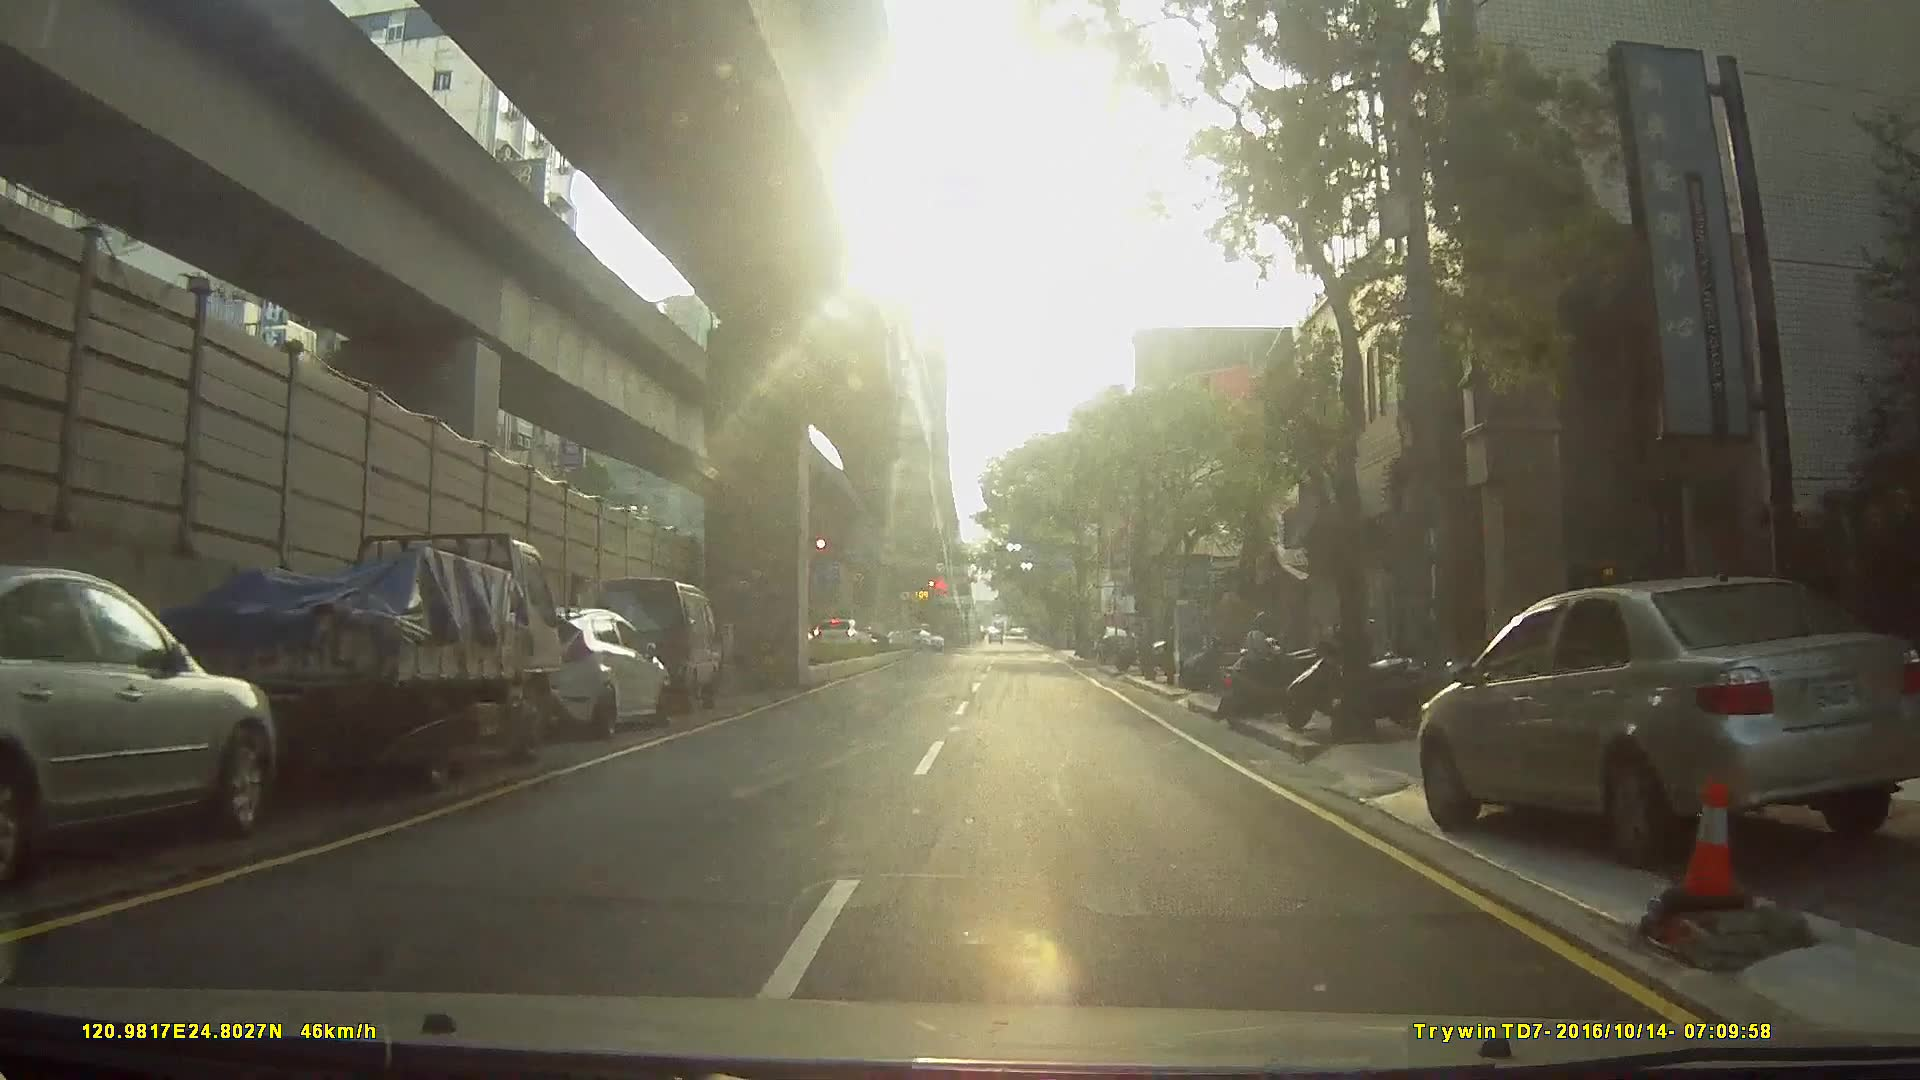rider: (1218, 611, 1317, 732)
vehicle: (1402, 571, 1920, 884), (117, 525, 579, 800), (2, 554, 286, 881), (478, 601, 668, 740), (578, 574, 718, 714), (807, 617, 868, 656), (1092, 625, 1138, 663), (884, 624, 944, 651)
